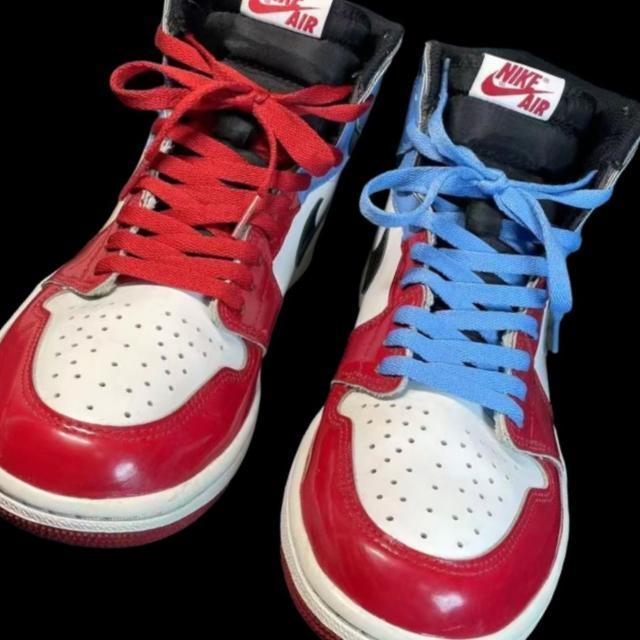nike original jordan 1: (230, 19, 640, 640), (0, 0, 417, 594)
